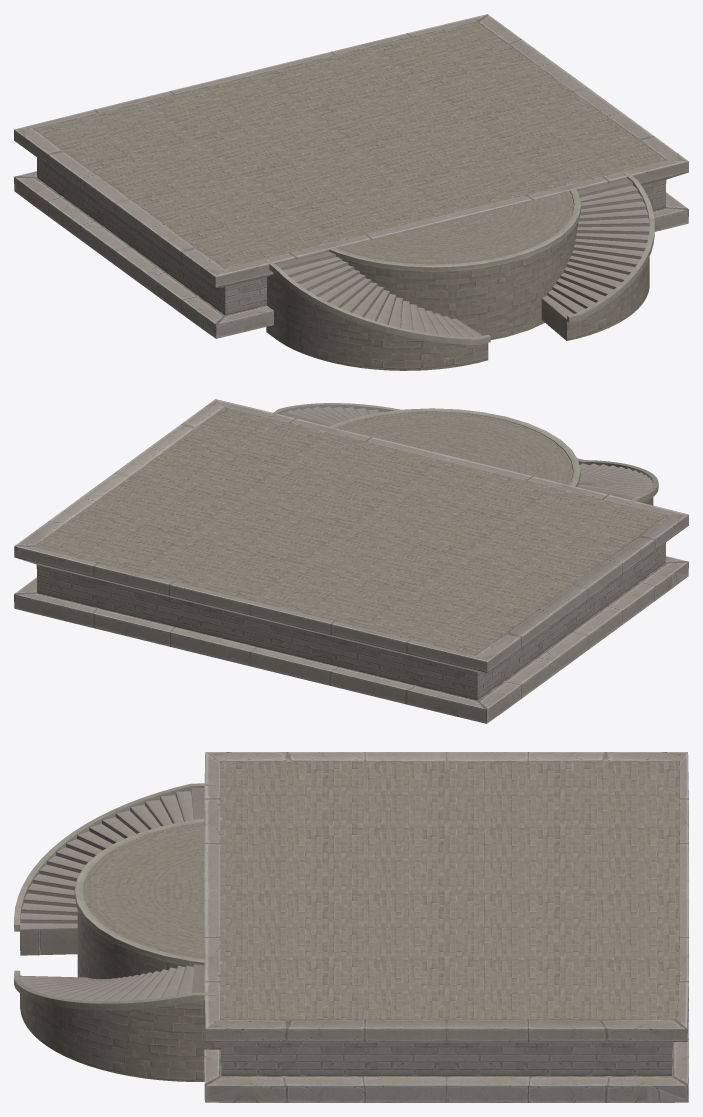
Rendered from mod_zlc_jianzhu086_xy.FBX.
3 views of the same model, one above another, from view 1: azimuth 30°, elevation 25°; view 2: azimuth 150°, elevation 25°; view 3: azimuth 270°, elevation 25° (orthographic). The views are drawn at different scales.
Visible parts, largest first — view 1: mod_zlc_jianzhu067_xy; view 2: mod_zlc_jianzhu067_xy; view 3: mod_zlc_jianzhu067_xy.
Boxes of the visible parts, x1=… form: mod_zlc_jianzhu067_xy: x1=14, y1=14, x2=688, y2=370; mod_zlc_jianzhu067_xy: x1=14, y1=399, x2=688, y2=723; mod_zlc_jianzhu067_xy: x1=14, y1=752, x2=688, y2=1102.
Size of the model in its own units: 57.01 by 9.15 by 58.76.
4 materials, 4 textured.
